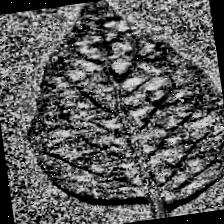spider mites: (11, 0, 224, 220)
